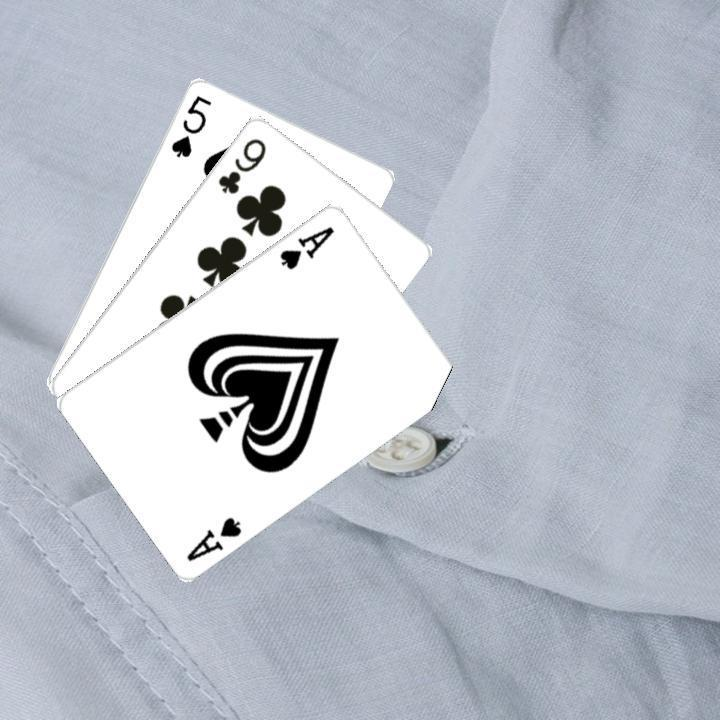5: (166, 90, 213, 159)
9: (213, 133, 269, 196)
A: (182, 511, 244, 563), (275, 221, 336, 271)
